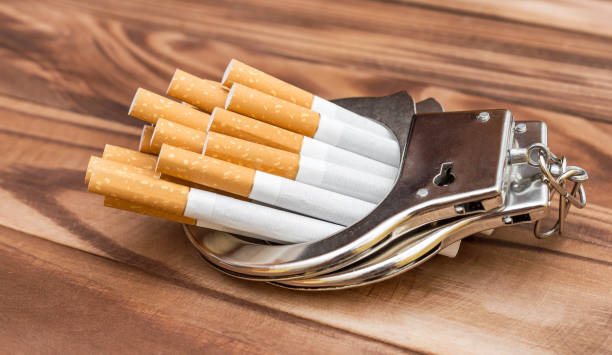cigarette: (85, 162, 348, 246), (152, 141, 379, 227), (220, 53, 399, 142), (222, 82, 403, 168), (205, 106, 403, 179), (200, 130, 395, 203), (100, 193, 295, 244), (128, 87, 213, 131), (163, 69, 228, 114), (150, 117, 206, 153), (83, 154, 158, 179), (100, 143, 164, 172), (138, 123, 159, 155)
